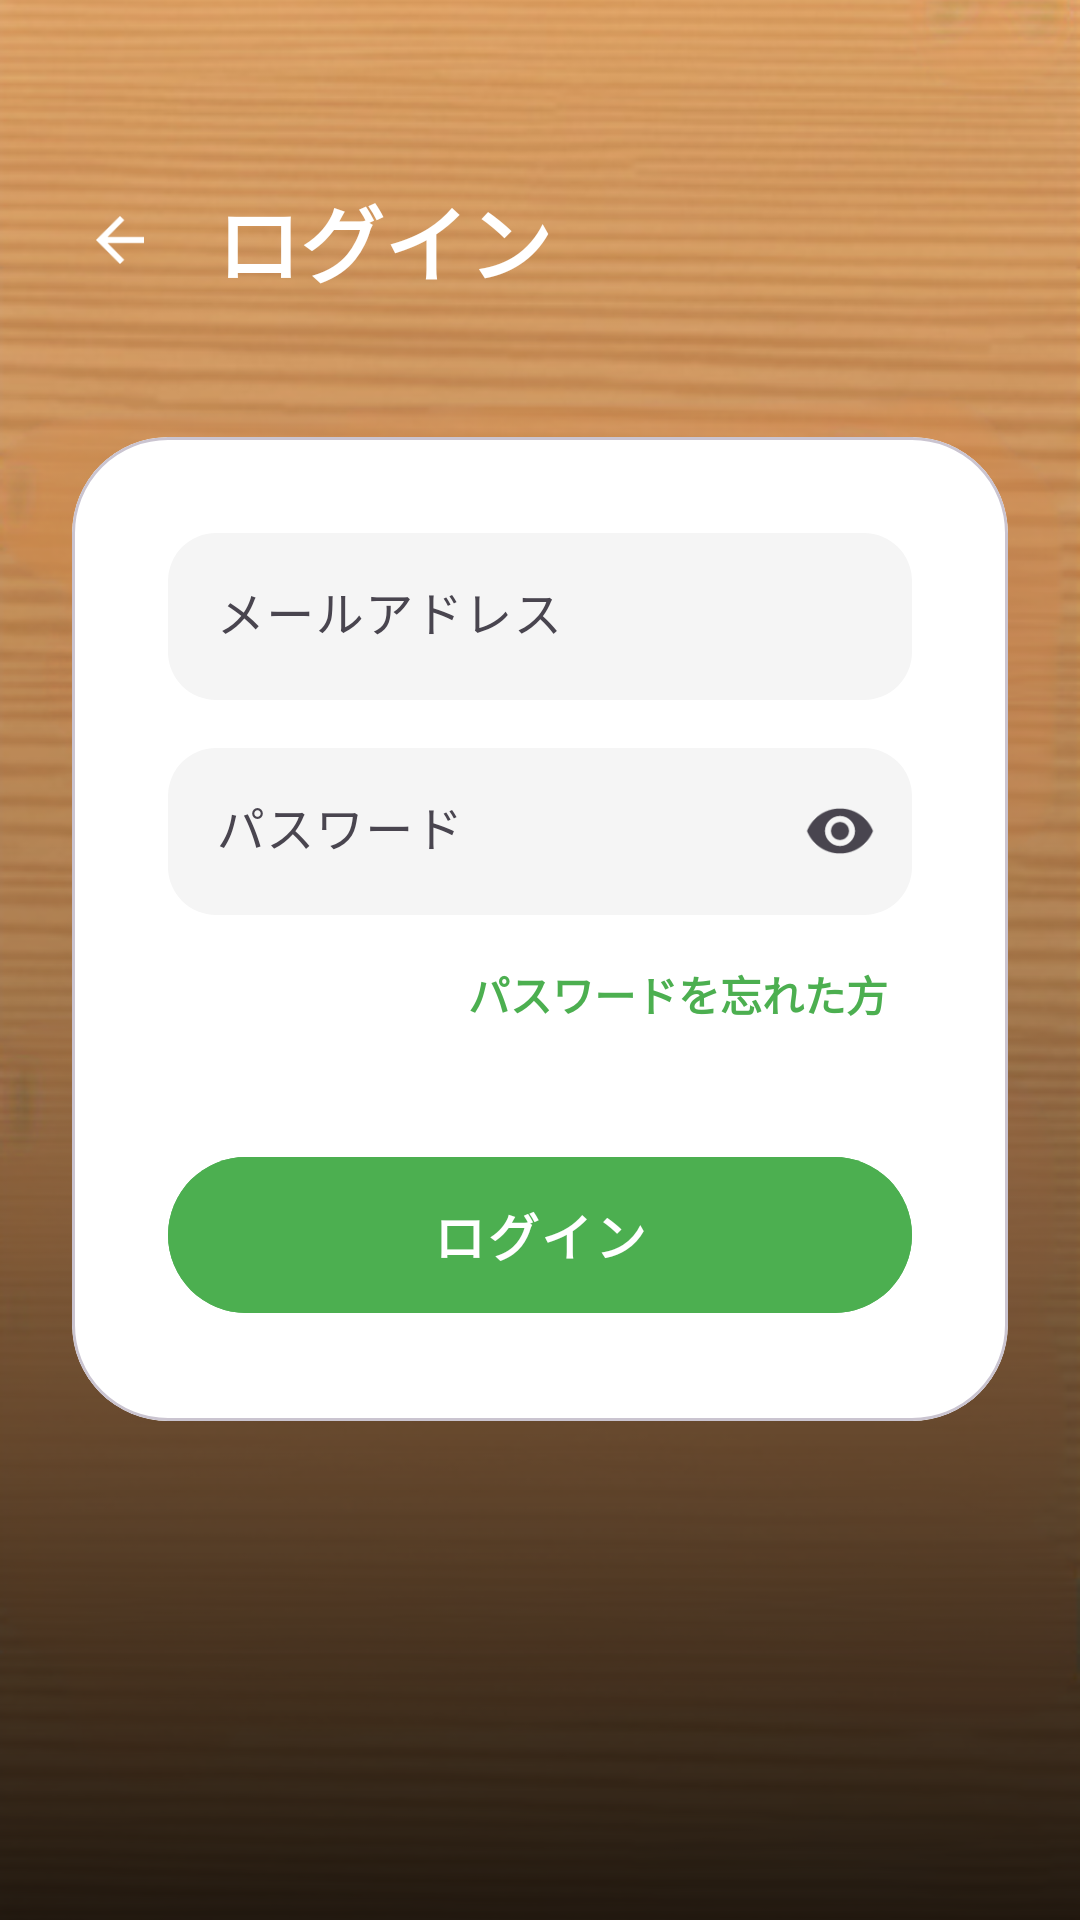

Point at icon controls on the screen. Image size 1080px x 1920px, points as [x,y].
戻る: [120,240]
